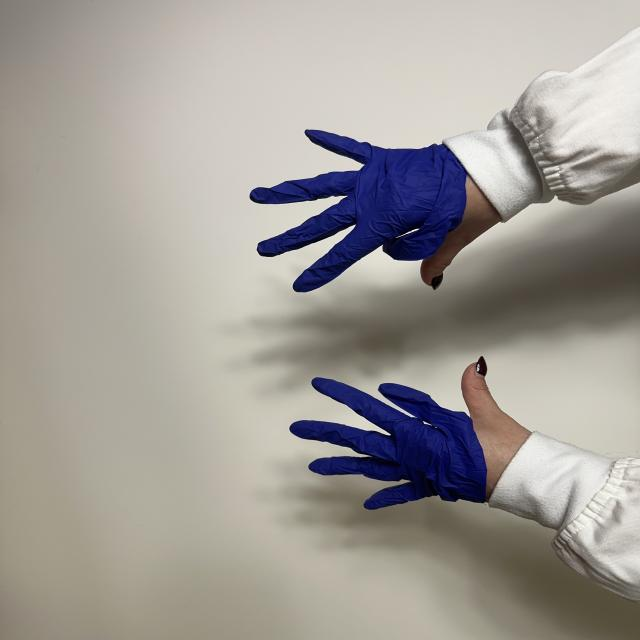glove_not_fitted: (250, 125, 502, 292), (294, 356, 539, 513)
